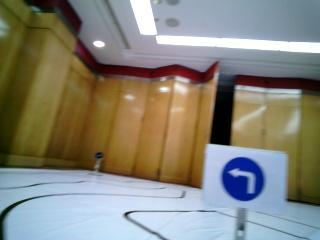left: (217, 156, 275, 202)
